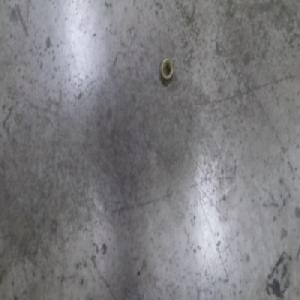Nut: (159, 56, 174, 88)
